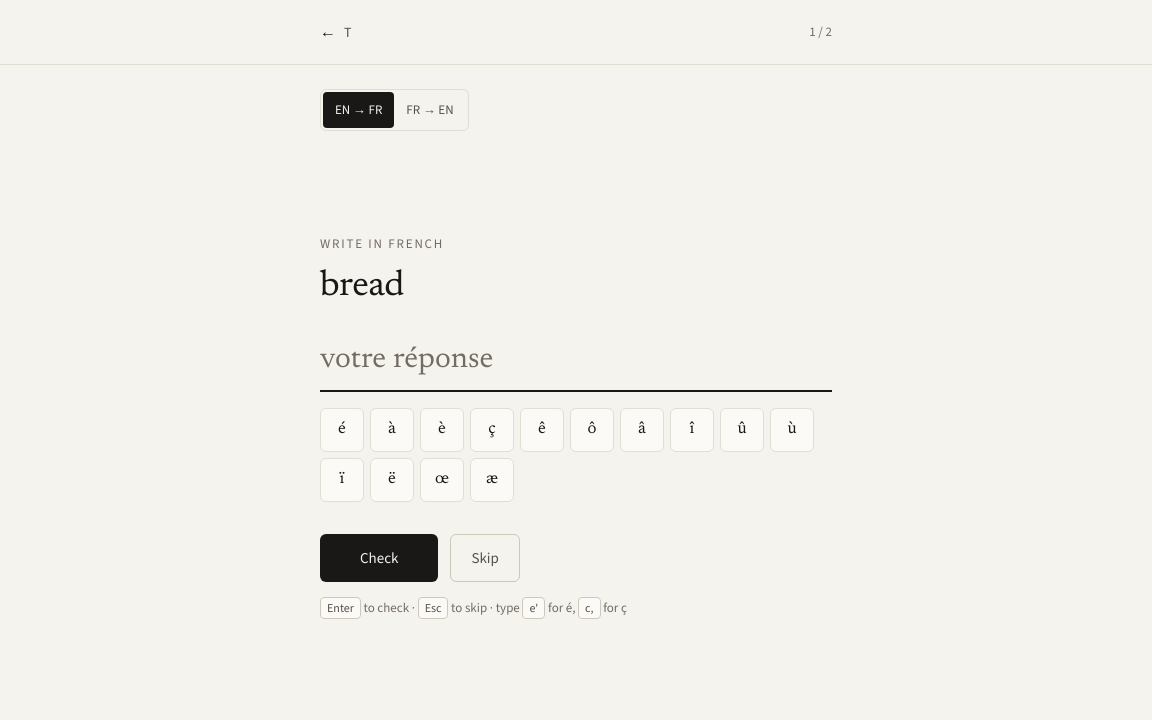
Scenario: direction toggle › switching direction restarts the round rather than keeping the score
The width and height of the screenshot is (1152, 720).
Expected: the field named "answer in french" is shown, [320,342,832,392]
Click the button "Skip": (485, 558) [450,534,520,582]
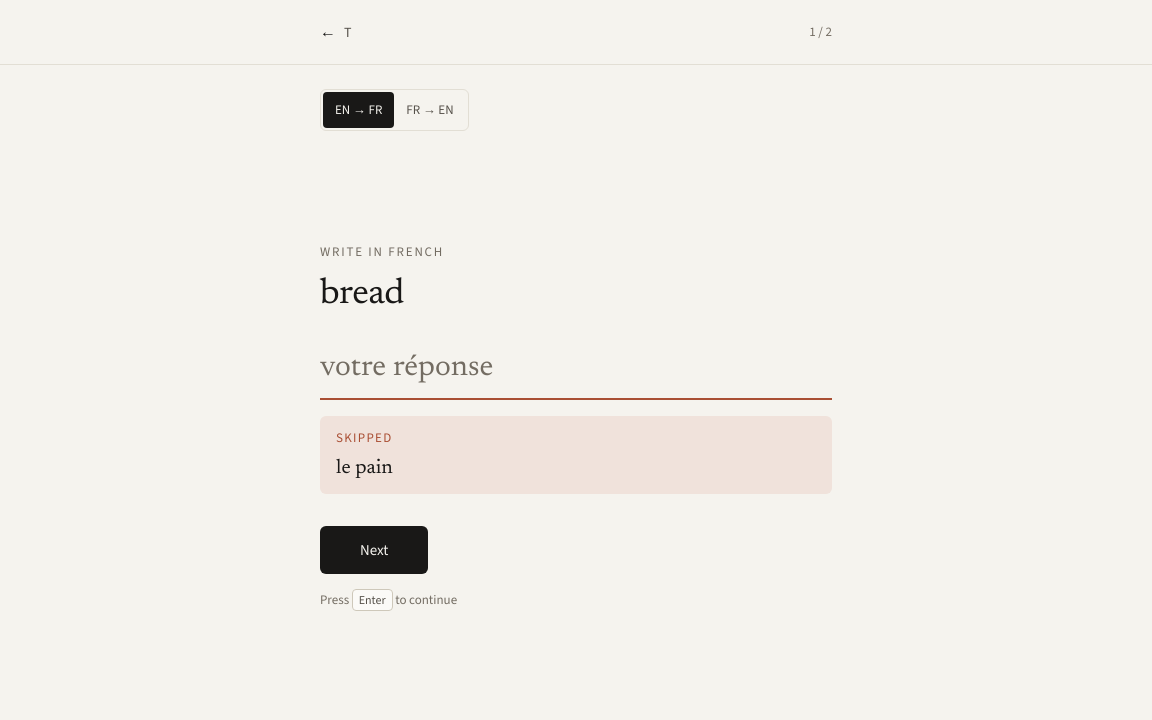
Click the button "Next": (374, 550) [320,526,428,574]
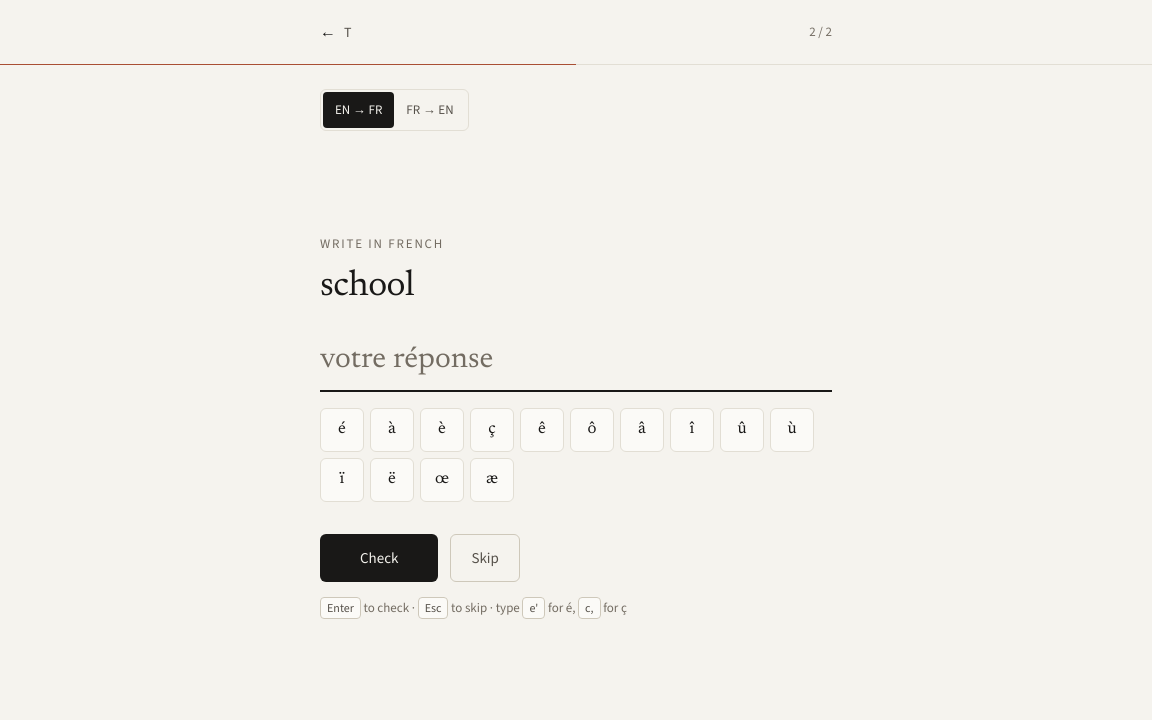
Result: the text "2 / 2" is shown at [809,22,832,42]
Click the radio button labelled "FR → EN": (430, 110) [394,92,466,128]
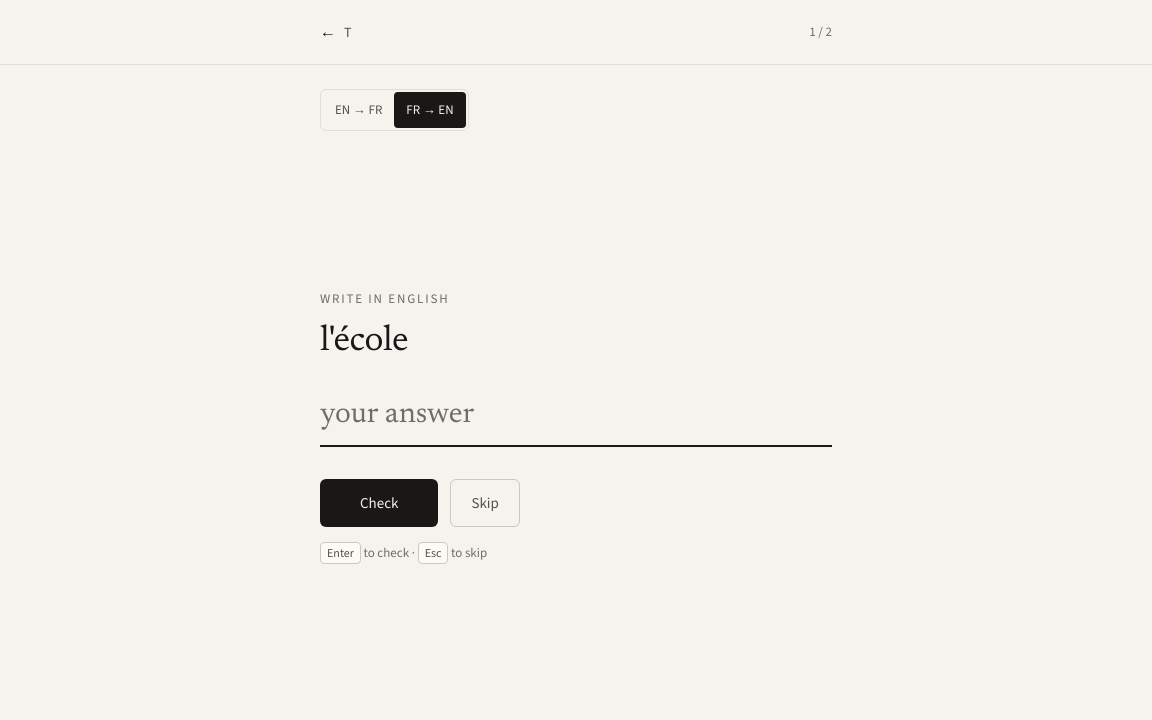
Result: the button "Check" is shown at [320,479,438,527]
Result: the text "1 / 2" is shown at [809,22,832,42]
